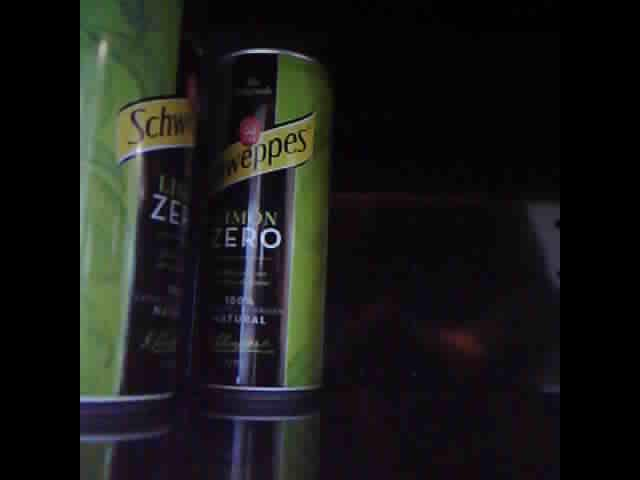schweppes: (79, 1, 203, 414), (203, 41, 329, 396)
